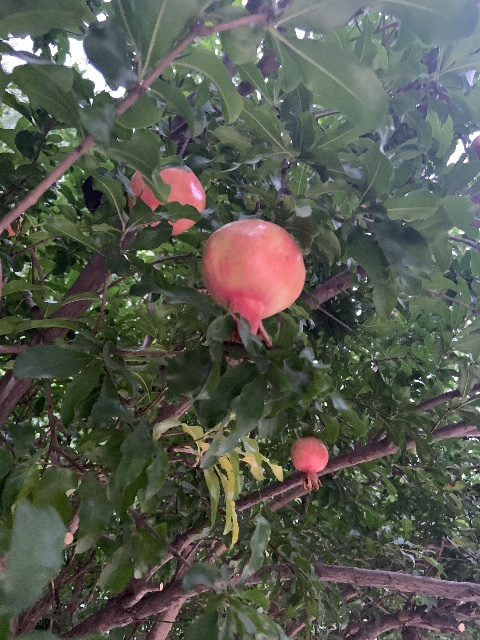ripe: (200, 219, 305, 347), (127, 166, 205, 235), (289, 436, 329, 491)
